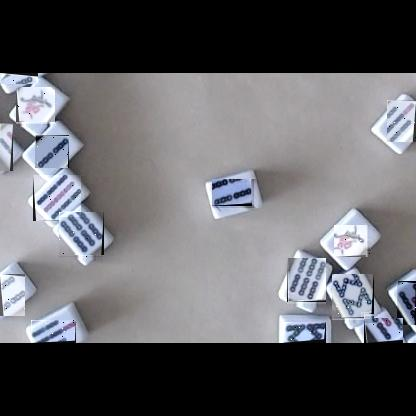1s: (16, 88, 55, 127), (335, 225, 371, 257)
2s: (35, 135, 69, 168)
3s: (0, 73, 38, 84)
4s: (213, 180, 257, 211), (0, 274, 25, 316)
5s: (364, 318, 403, 343), (397, 281, 416, 325)
6s: (59, 213, 104, 260), (287, 259, 326, 307)
7s: (387, 100, 416, 142), (31, 320, 76, 343)
8s: (332, 275, 374, 323), (283, 322, 326, 343)
9s: (33, 175, 81, 221), (0, 123, 13, 171)
